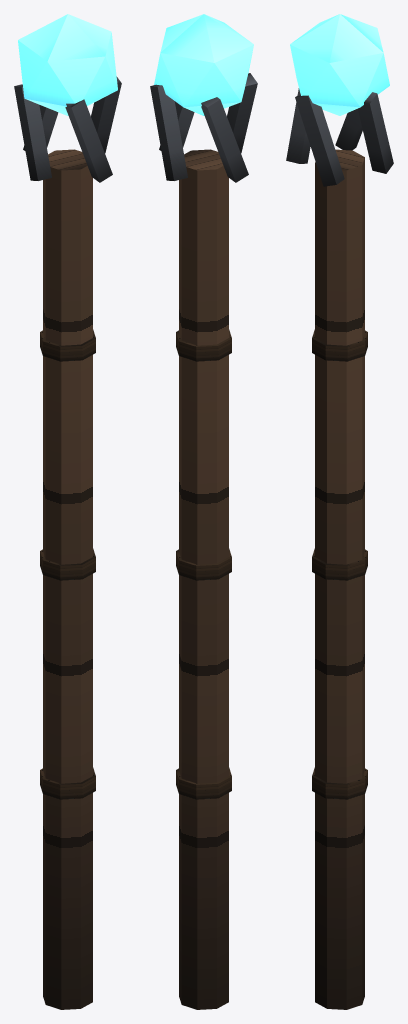
Rendered from wizard_staff.gltf.
3 views of the same model, side by side, from view 1: azimuth 30°, elevation 25°; view 2: azimuth 210°, elevation 25°; view 3: azimuth 330°, elevation 25° (orthographic).
Visible parts, largest first — view 1: wizard_staff; view 2: wizard_staff; view 3: wizard_staff.
Boxes of the visible parts, left/top/right/bottom form: wizard_staff: left=14, top=14, right=121, bottom=1009; wizard_staff: left=150, top=14, right=257, bottom=1009; wizard_staff: left=286, top=14, right=393, bottom=1009.
Size of the model in its own units: 0.1252 by 1.35 by 0.12.
Materials: 1 (1 with a texture image).
